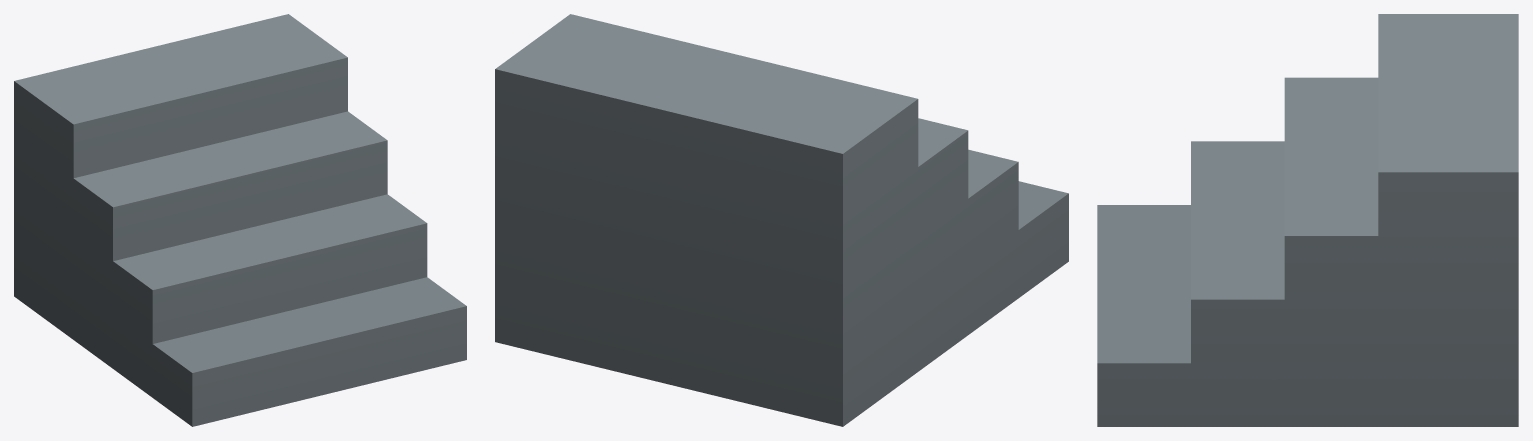
The model's file is Stairs.glb.
3 renders of one model, left to right at view 1: azimuth 30°, elevation 25°; view 2: azimuth 150°, elevation 25°; view 3: azimuth 270°, elevation 25°, orthographic. The views are drawn at different scales.
Parts seen in each view (by area): view 1: Stairs; view 2: Stairs; view 3: Stairs.
Part boxes in pixels (left/top/right/bottom): Stairs: left=14, top=14, right=466, bottom=426; Stairs: left=495, top=14, right=1068, bottom=426; Stairs: left=1097, top=14, right=1518, bottom=426.
Bounding box in the file's own units: 0.28 × 0.21 × 0.315.
1 material, 1 textured.
